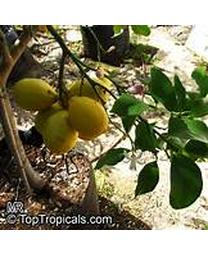lemon: (11, 77, 60, 111), (41, 108, 77, 152), (68, 97, 107, 134)
